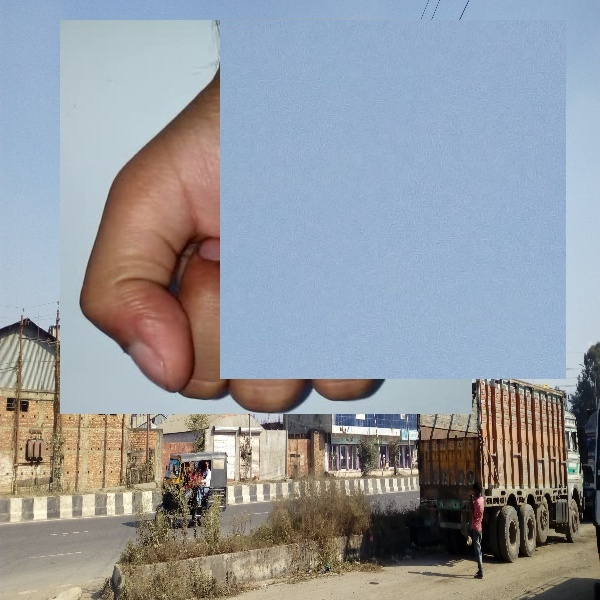A: (220, 20, 566, 379)
